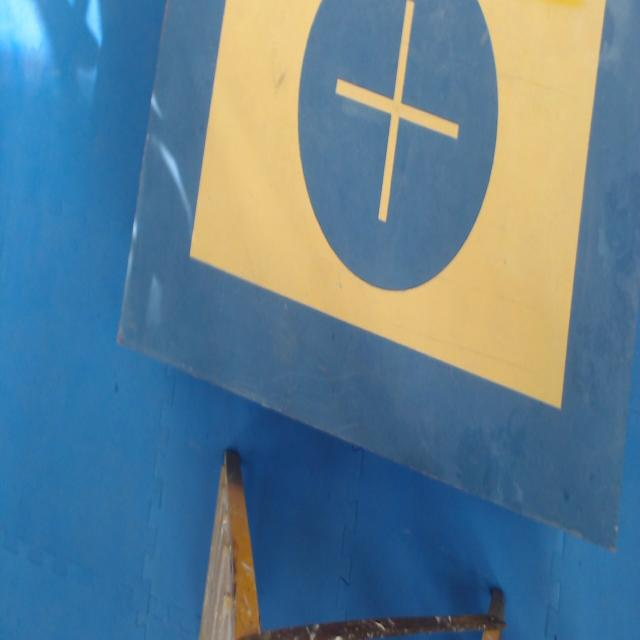base_inicio: (190, 0, 606, 411)
